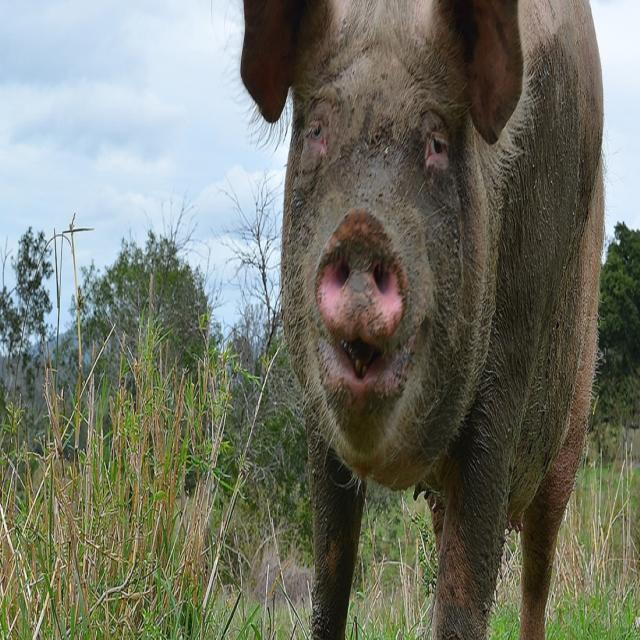pig: (239, 0, 605, 640)
